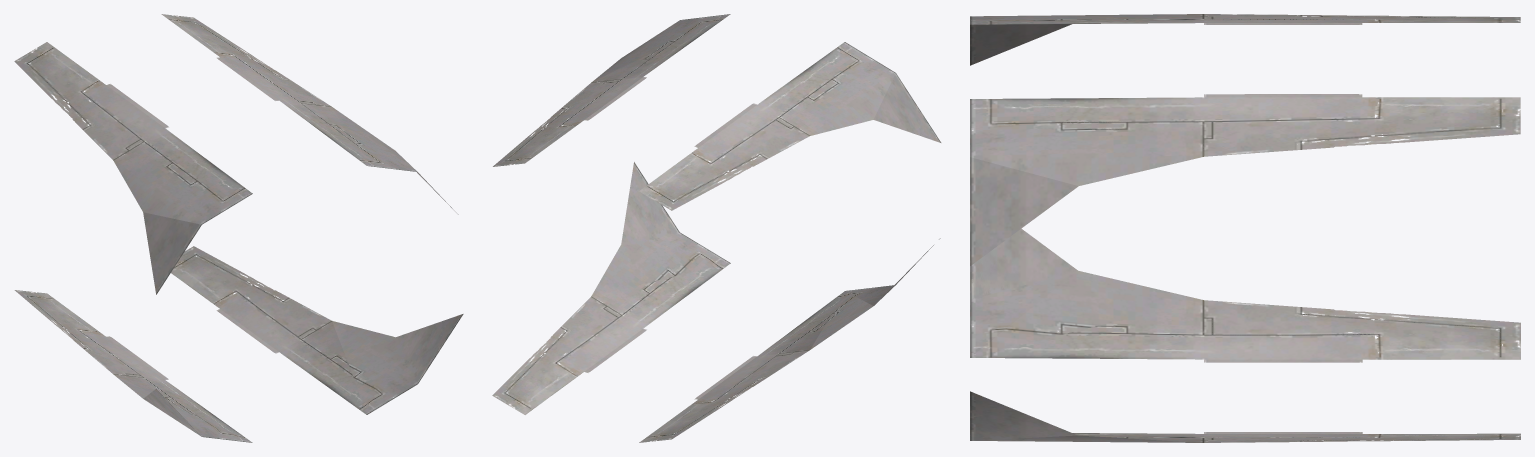
Rendered from hutt_fighter_heavy_engine_s01_l1.fbx.
The picture shows the model from 3 angles, left to right: view 1: azimuth 30°, elevation 25°; view 2: azimuth 150°, elevation 25°; view 3: azimuth 270°, elevation 25°; orthographic projection. The views are drawn at different scales.
Visible parts, largest first — view 1: mesh_node; view 2: mesh_node; view 3: mesh_node.
Part boxes in pixels (<box>): mesh_node: <box>14,14,463,442</box>; mesh_node: <box>492,14,941,442</box>; mesh_node: <box>970,14,1520,442</box>.
Bounding box in the file's own units: 7.5 × 6.16 × 8.69.
Materials: 1 (1 with a texture image).
